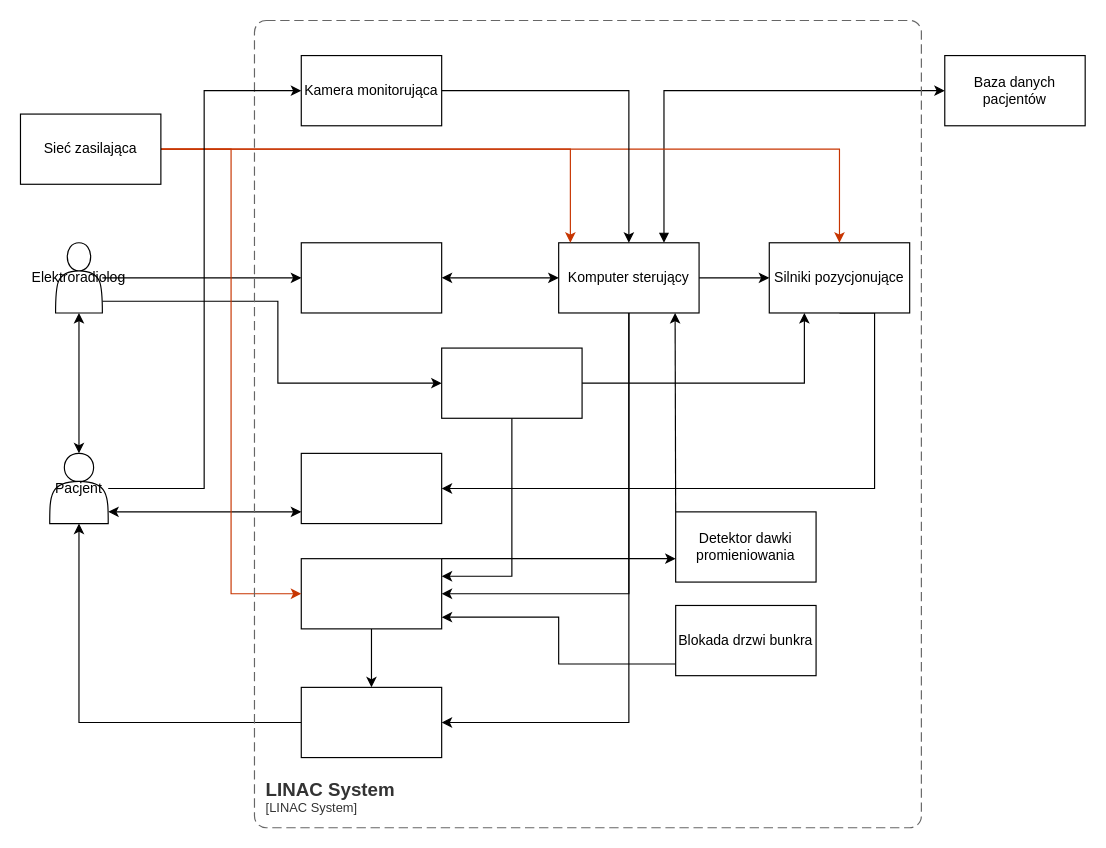
Image size: 1106x848. Some labels were removed from this diagram. The shapes that lost their labels are listed below. From the top down, each one's box as (x1, y1, x2, y2) in pixels, then its label:
(300, 242, 442, 313): Konsola operatora
(441, 347, 582, 418): Wyłącznik awaryjny
(300, 452, 442, 524): Stół pacjenta
(300, 558, 442, 629): Akcelerator liniowy
(300, 686, 442, 758): Kolimator (MLC)
